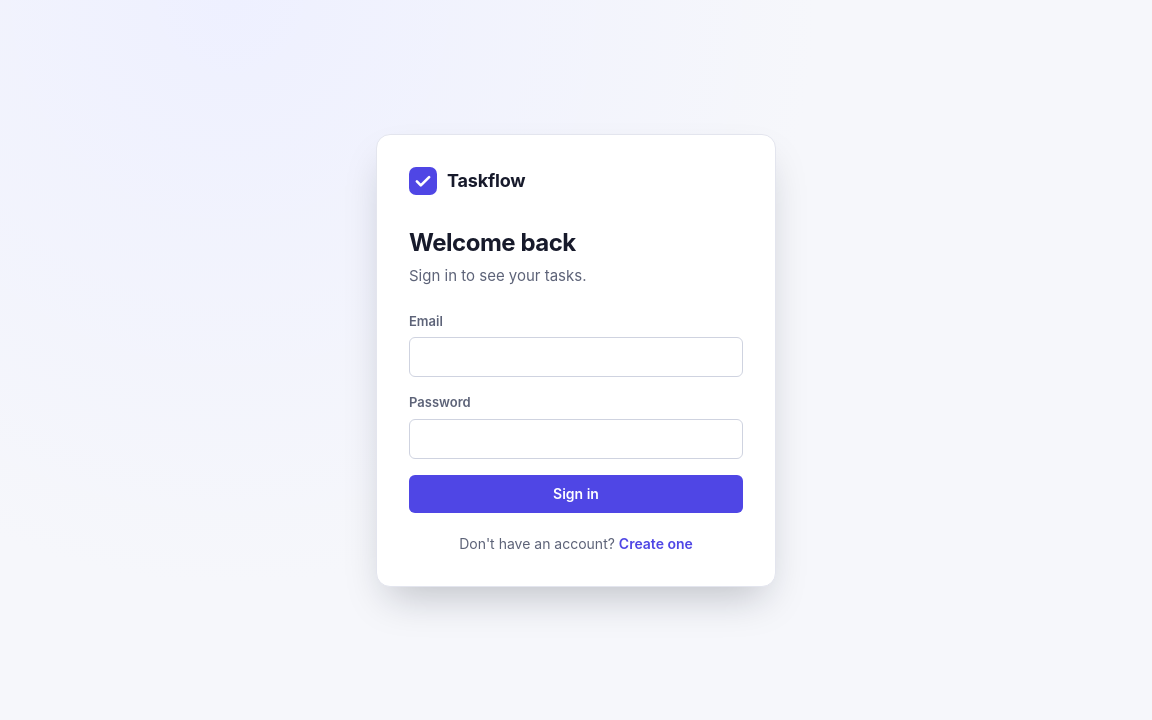
Test: sign in › stores the token and shows the task list after signing in
This screenshot has width=1152, height=720.
Type "ada@example.com" into the field labelled "Email" at (576, 357), box [409,337,743,377]
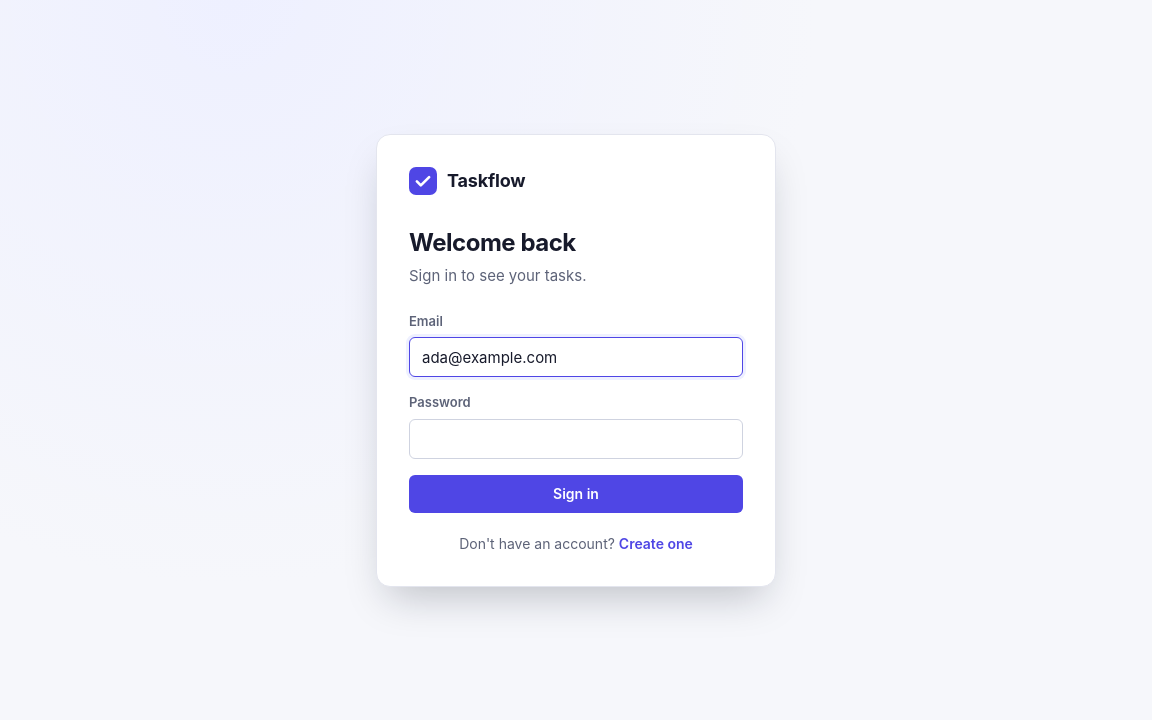
Type "analytical-engine" into the password field labelled "Password" at (576, 438), box [409,418,743,458]
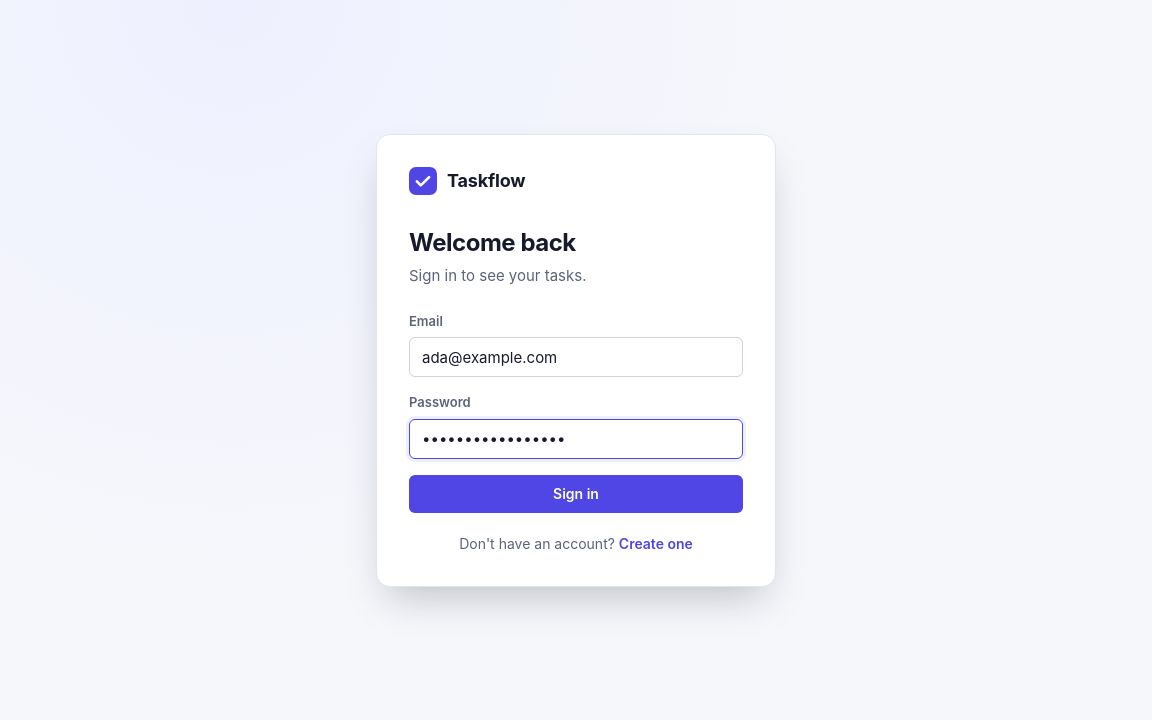
Click the button "Sign in" at (576, 494), box [409,474,743,512]
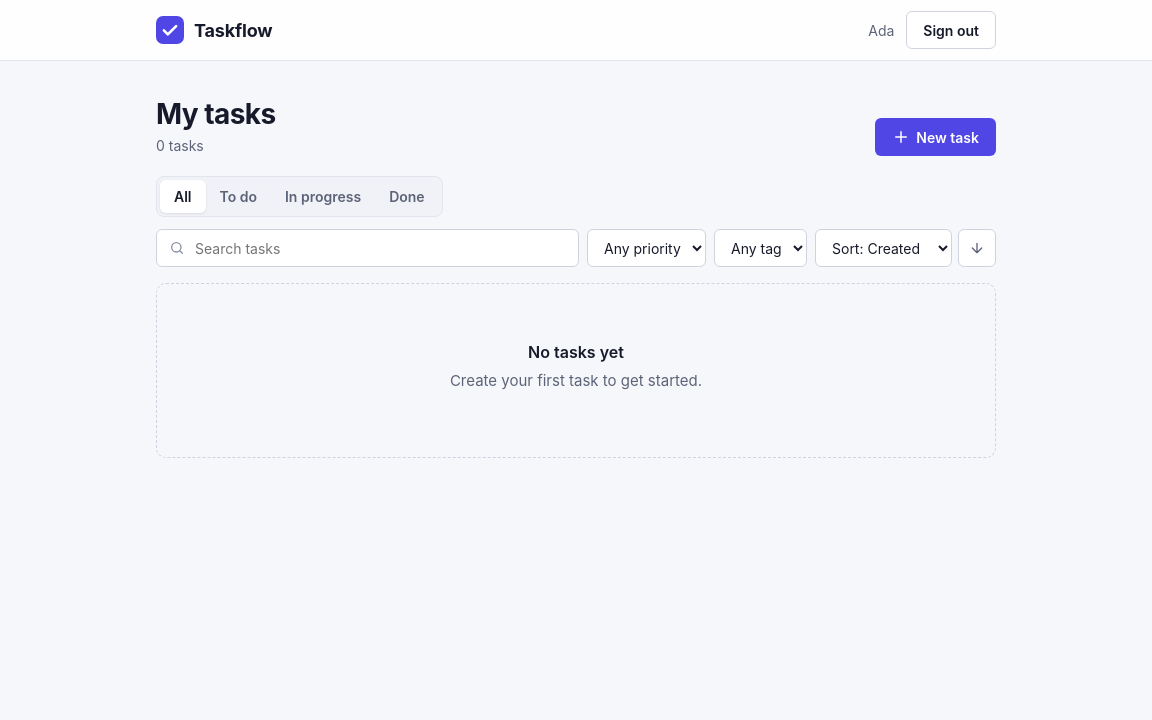
Check: the heading "My tasks" is shown, box [156,93,276,135]
Check: the text "No tasks yet" is shown, box [528,340,624,364]
